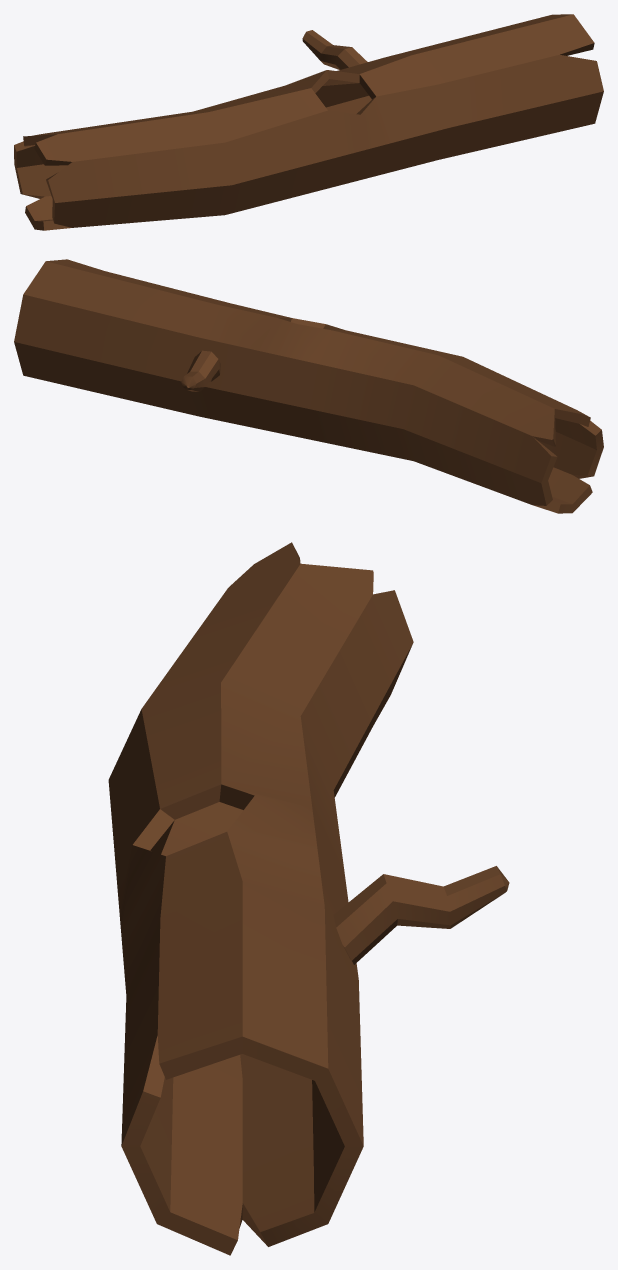
File: Log1.glb
The picture shows the model from 3 angles, top to bottom: view 1: azimuth 30°, elevation 25°; view 2: azimuth 150°, elevation 25°; view 3: azimuth 270°, elevation 25°; orthographic projection. The views are drawn at different scales.
Parts seen in each view (by area): view 1: Log; view 2: Log; view 3: Log.
Boxes of the visible parts, <box> form: Log: <box>14,14,603,230</box>; Log: <box>14,259,603,513</box>; Log: <box>108,542,509,1255</box>.
Size of the model in its own units: 36.73 by 7.36 by 12.03.
